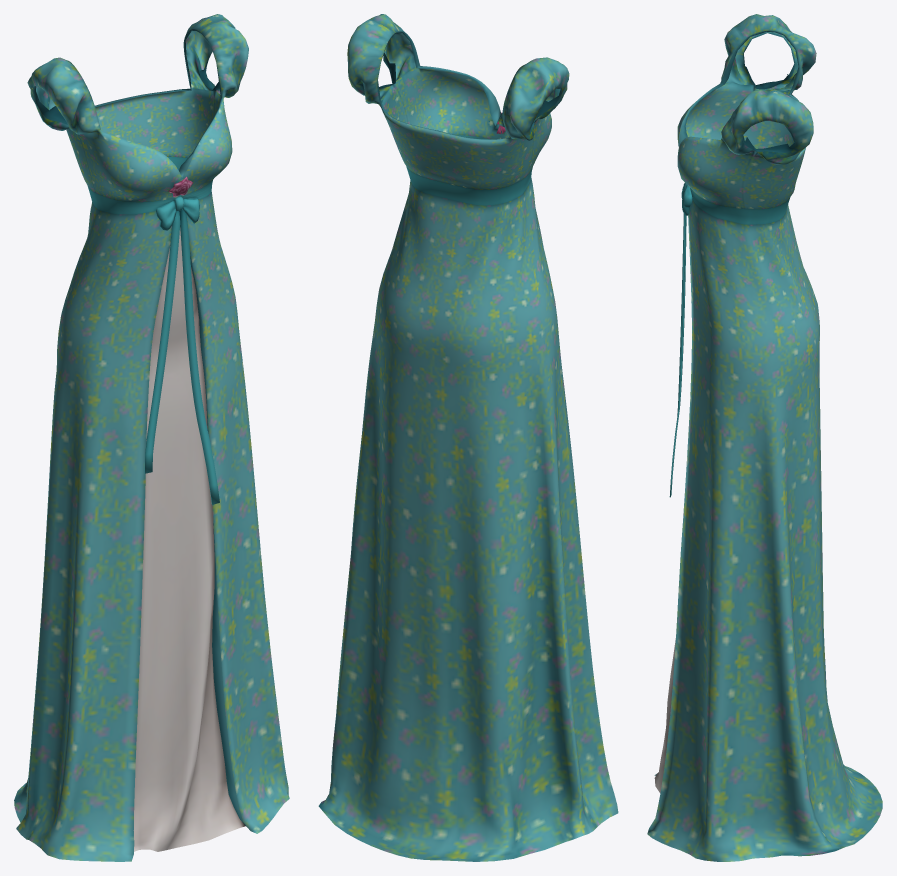
File: princess_giselle_clothes.glb
3 views of the same model, side by side, from view 1: azimuth 30°, elevation 25°; view 2: azimuth 150°, elevation 25°; view 3: azimuth 270°, elevation 25° (orthographic). The views are drawn at different scales.
Visible parts, largest first — view 1: Object_2; view 2: Object_2; view 3: Object_2.
Part boxes in pixels (x1=…): Object_2: x1=14, y1=14, x2=289, y2=861; Object_2: x1=318, y1=14, x2=618, y2=861; Object_2: x1=647, y1=14, x2=882, y2=861.
Bounding box in the file's own units: 4.33 × 12.77 × 3.6.
1 material, 1 textured.
